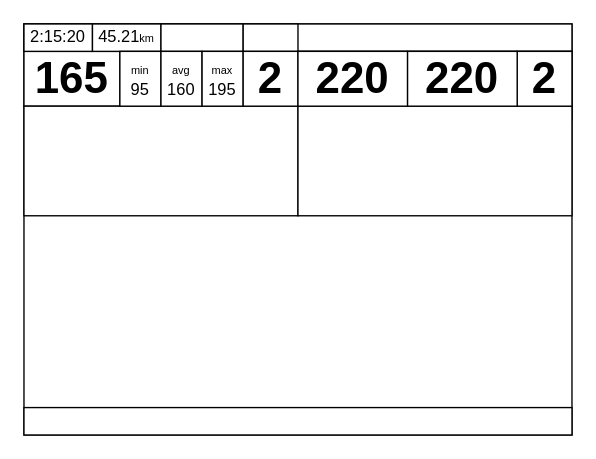
This 596x459 diagram has some shape labels left out. The box of each missing label's shape, as (x1, y1, x2, y2) in pixels:
10ms: (242, 23, 298, 51)
165.21 kmh: (160, 23, 243, 51)
